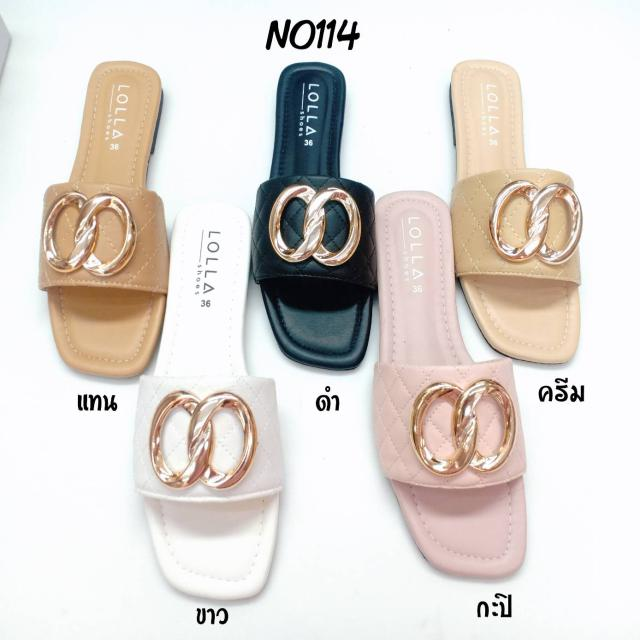black: (255, 61, 372, 368)
cream: (449, 56, 578, 365)
kapi: (370, 189, 526, 579)
tan: (49, 64, 165, 378)
white: (136, 202, 277, 590)
